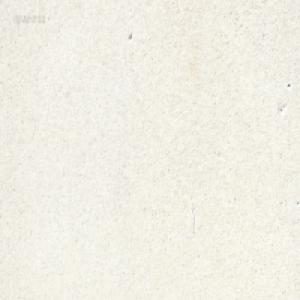Wrench: (180, 0, 187, 5)
